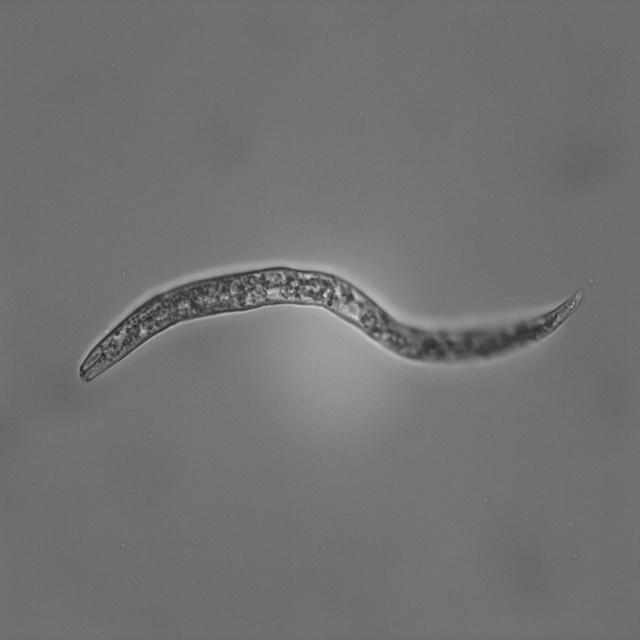Radopholus: (64, 262, 587, 391)
